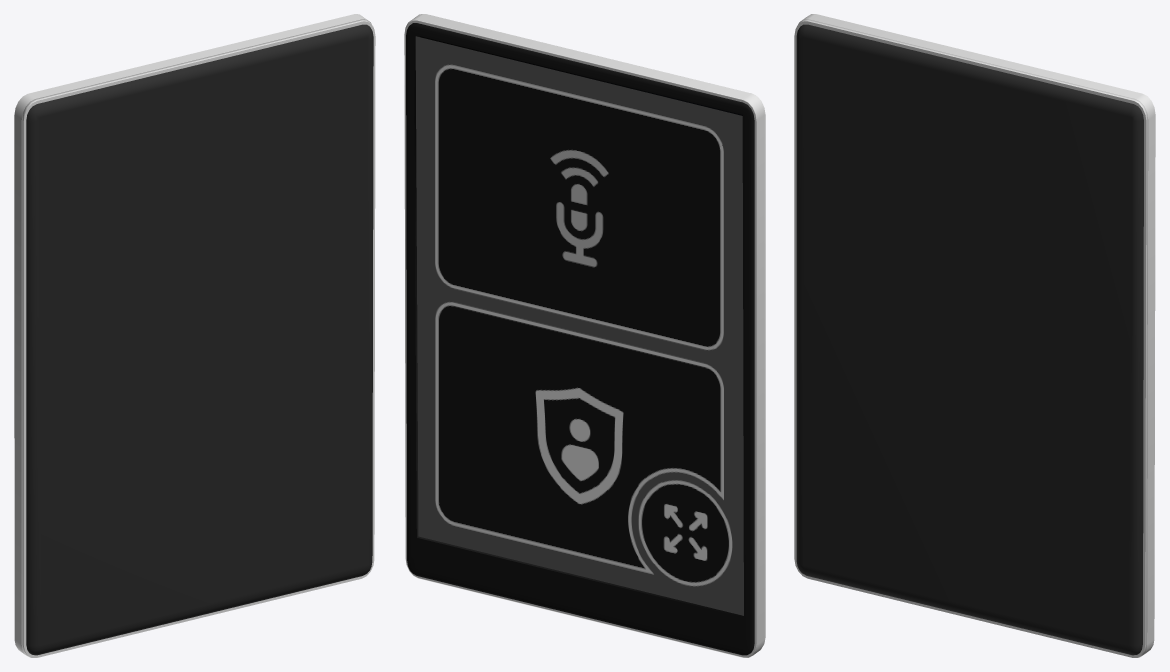
File: tinyTablet.fbx
3 views of the same model, side by side, from view 1: azimuth 30°, elevation 25°; view 2: azimuth 150°, elevation 25°; view 3: azimuth 330°, elevation 25° (orthographic).
Visible parts, largest first — view 1: group1_Sun; view 2: group1_Sun; view 3: group1_Sun.
Boxes of the visible parts, bbox=[...] form: group1_Sun: bbox=[14, 14, 375, 657]; group1_Sun: bbox=[404, 14, 765, 657]; group1_Sun: bbox=[794, 14, 1155, 657].
Size of the model in its own units: 2.56 by 3.88 by 0.182.
5 materials, 3 textured.
